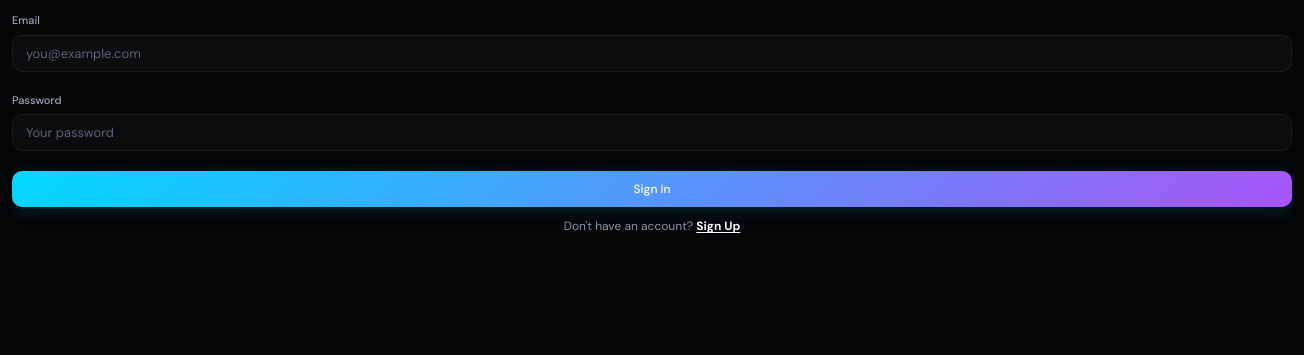
Scenario: EmailAuthForm › renders the confirm-your-email outcome as a status, not an error
Click the button with class "email-auth__switch-btn" at (718, 226), box [696,217,740,235]
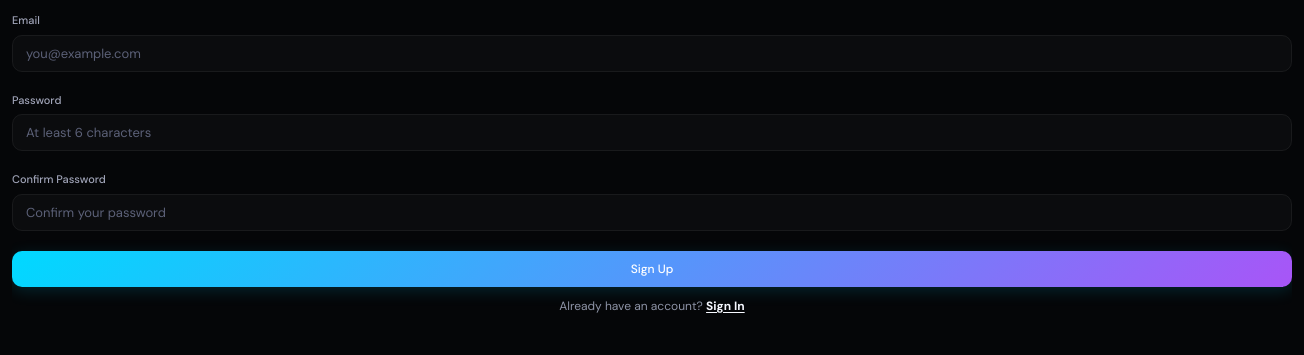
Type "ada@kwami.io" into the field with placeholder "you@example.com" at (652, 53), box [12,34,1292,72]
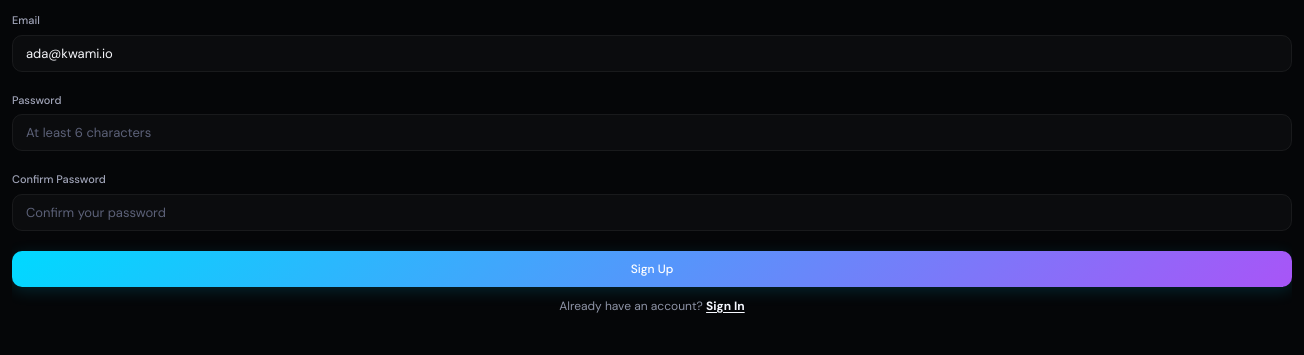
Type "hunter2" into the password field with placeholder "At least 6 characters" at (652, 132), box [12,114,1292,151]
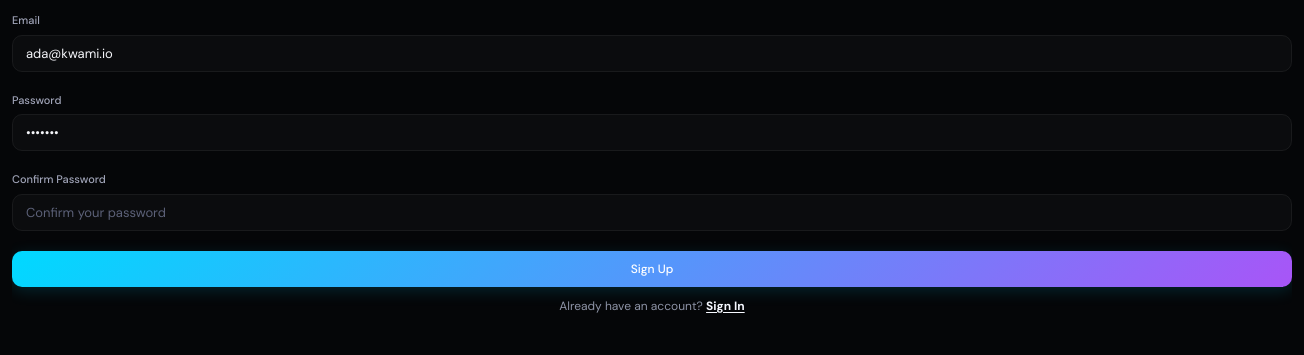
Type "hunter2" into the password field with placeholder "Confirm your password" at (652, 212), box [12,194,1292,230]
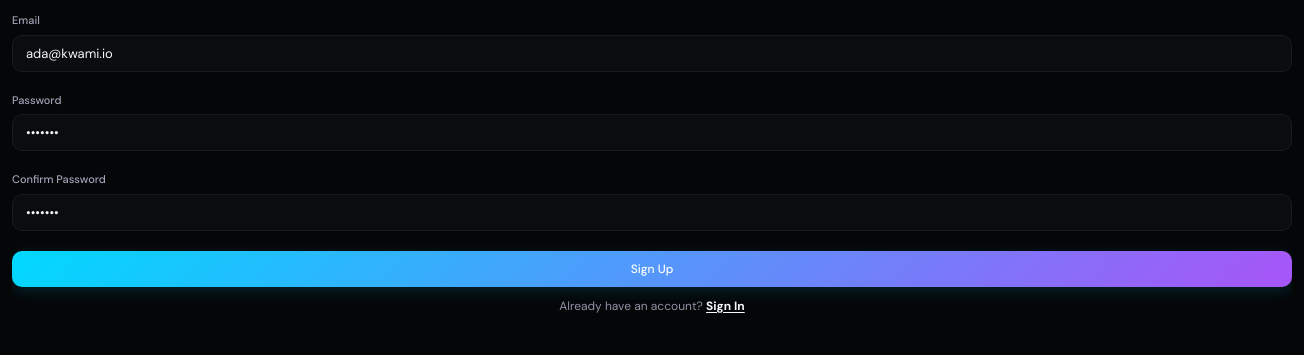
Submit the form
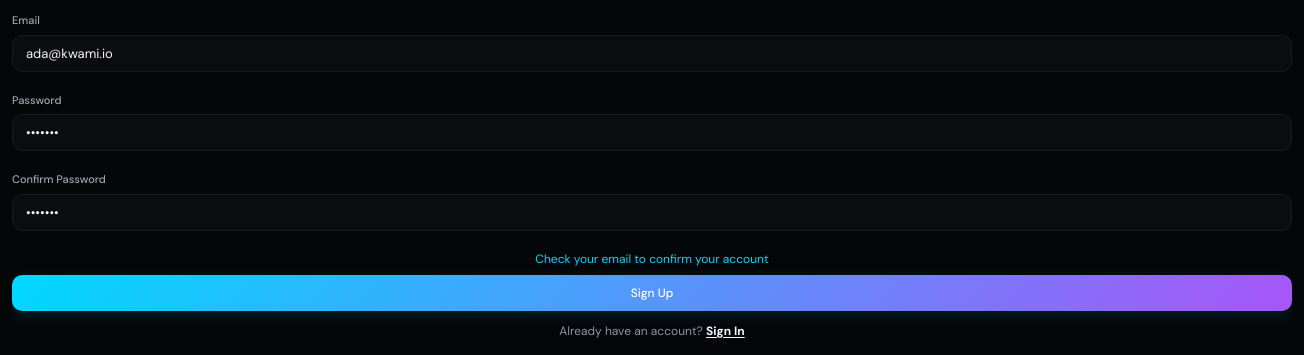
Expected: the message "Check your email to confirm your account" is shown, [535,250,769,266]
